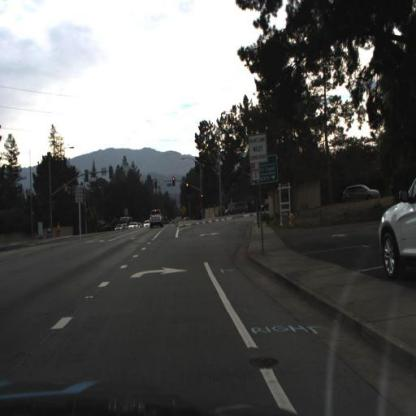car: (379, 177, 416, 282), (342, 179, 382, 208), (225, 201, 249, 219), (146, 208, 161, 231)
